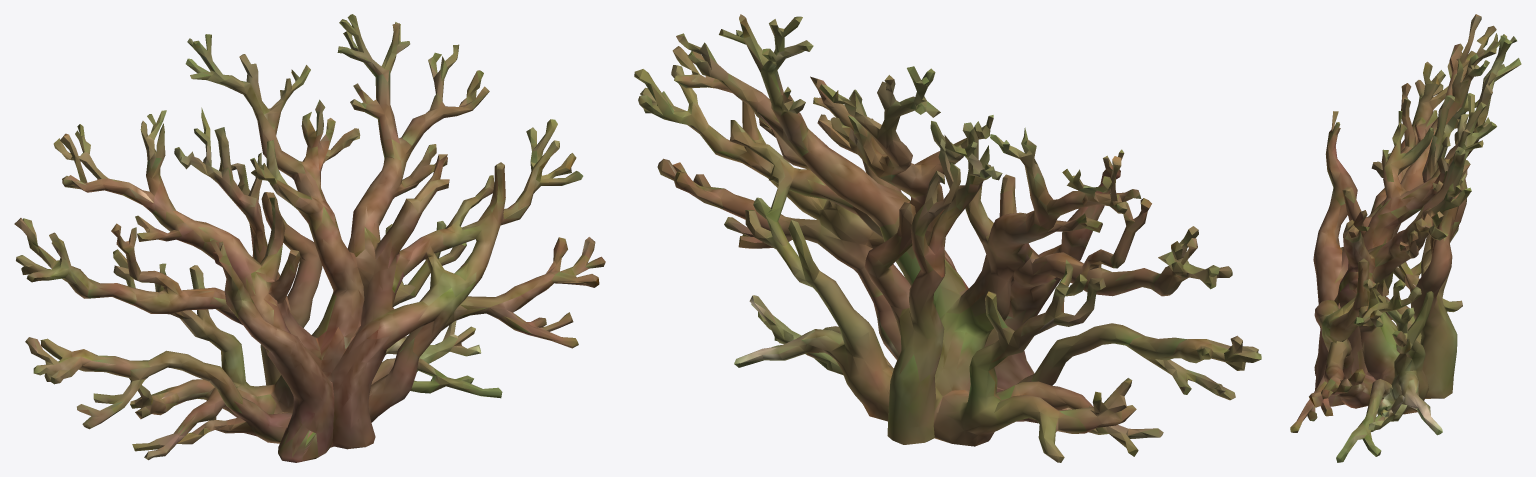
Rendered from seto_seco.glb.
3 renders of one model, left to right at view 1: azimuth 30°, elevation 25°; view 2: azimuth 150°, elevation 25°; view 3: azimuth 270°, elevation 25°, orthographic. The views are drawn at different scales.
Parts seen in each view (by area): view 1: seto_seco_malla; view 2: seto_seco_malla; view 3: seto_seco_malla.
Part boxes in pixels (<box>): seto_seco_malla: <box>14,14,605,462</box>; seto_seco_malla: <box>634,14,1261,462</box>; seto_seco_malla: <box>1290,14,1521,462</box>.
Bounding box in the file's own units: 0.2909 × 0.1826 × 0.1146.
1 material, 1 textured.
